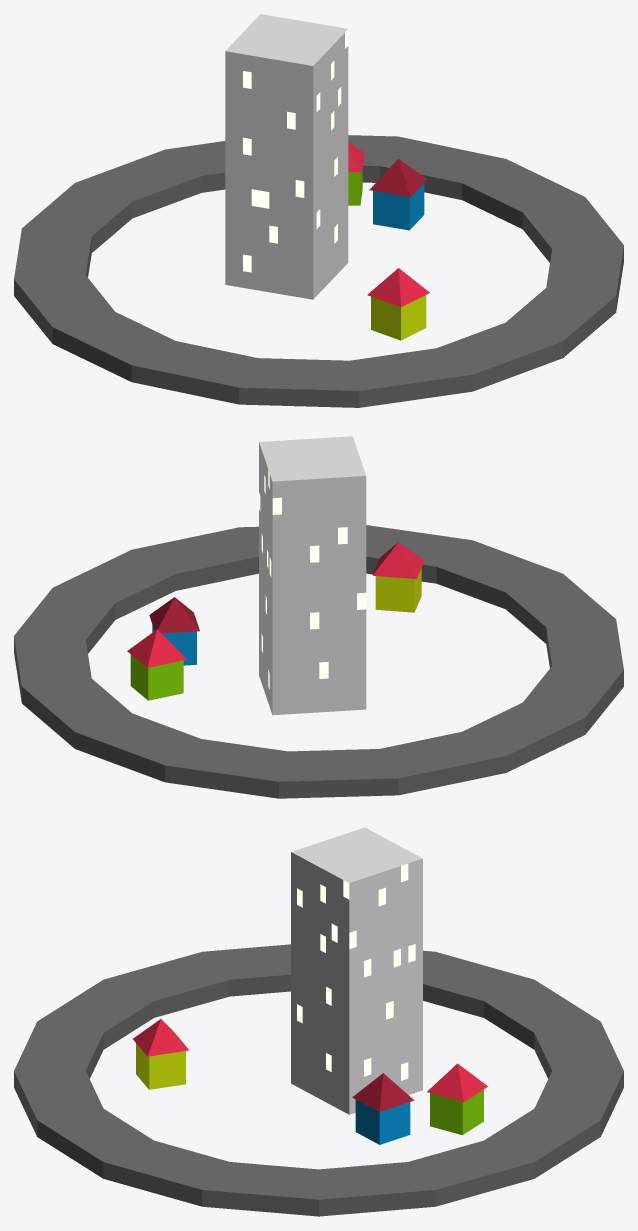
File: test_city5.fbx
3 views of the same model, one above another, from view 1: azimuth 30°, elevation 25°; view 2: azimuth 150°, elevation 25°; view 3: azimuth 270°, elevation 25° (orthographic).
Visible parts, largest first — view 1: street, skyscraper, house, house.001, roof, roof.001; view 2: street, skyscraper, house.002, house, roof.002, roof, roof.001, house.001; view 3: street, skyscraper, house.001, house.002, house, roof.001, roof.002, roof.
Part boxes in pixels (x1,y1,x2,y2): street: (14,135,623,407); skyscraper: (225,14,348,299); house: (371,295,426,340); house.001: (373,183,424,230); roof: (367,268,429,307); roof.001: (369,159,427,196); street: (14,525,623,798); skyscraper: (259,436,366,715); house.002: (130,654,183,700); house: (375,568,421,612); roof.002: (127,629,186,667); roof: (372,542,424,578); roof.001: (149,597,199,633); house.001: (152,625,196,665); street: (14,944,623,1216); skyscraper: (291,827,422,1114); house.001: (355,1099,410,1144); house.002: (430,1089,483,1135); house: (136,1043,185,1089); roof.001: (352,1073,414,1111); roof.002: (427,1063,487,1102); roof: (133,1019,188,1056).
Bounding box in the file's own units: 86.3 × 36.17 × 86.3.
